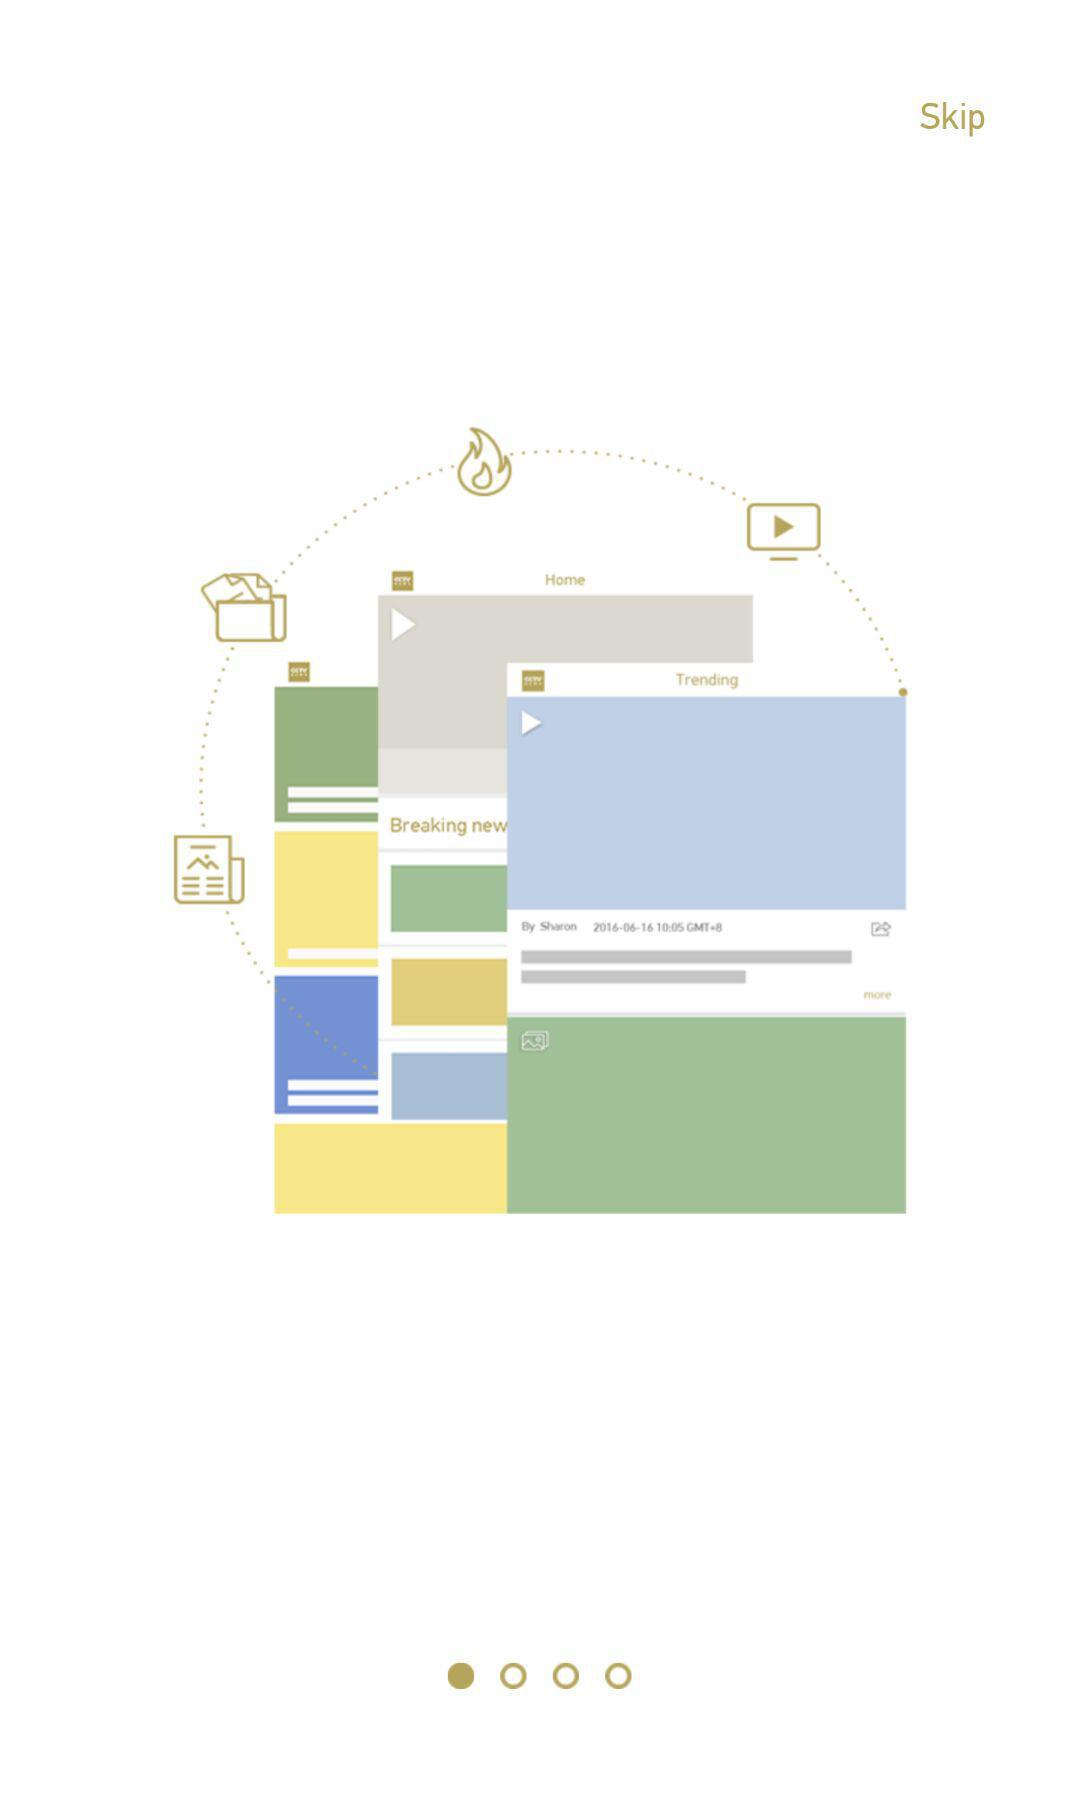Image: (173, 427, 910, 1214)
PageIndicator: (447, 1661, 634, 1691)
Text: (920, 101, 986, 140)
